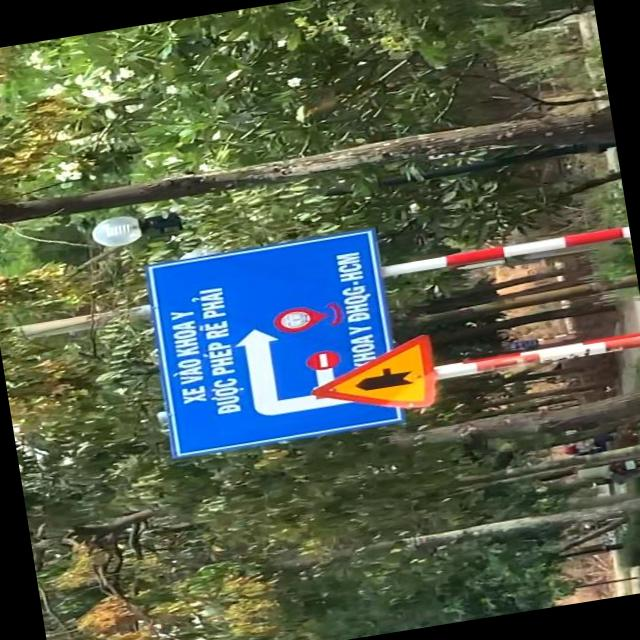W-207b: (308, 333, 442, 427)
